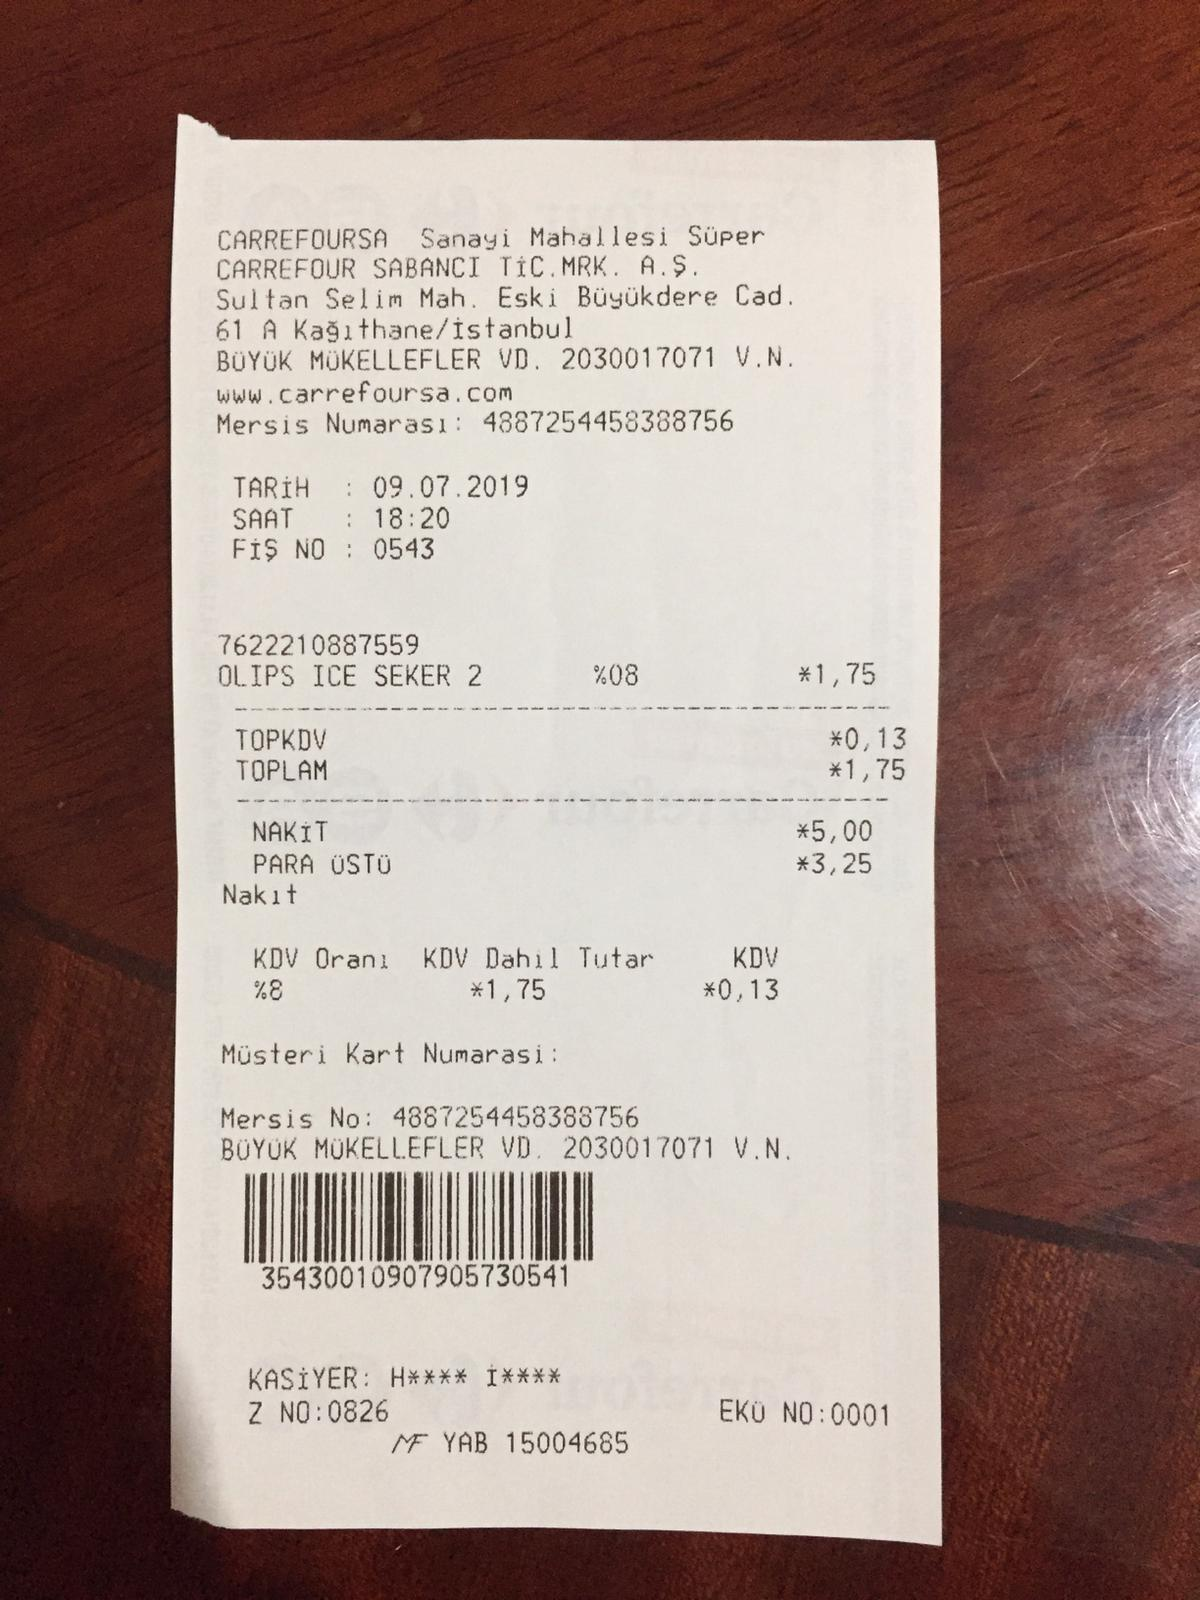total: (231, 752, 914, 791)
